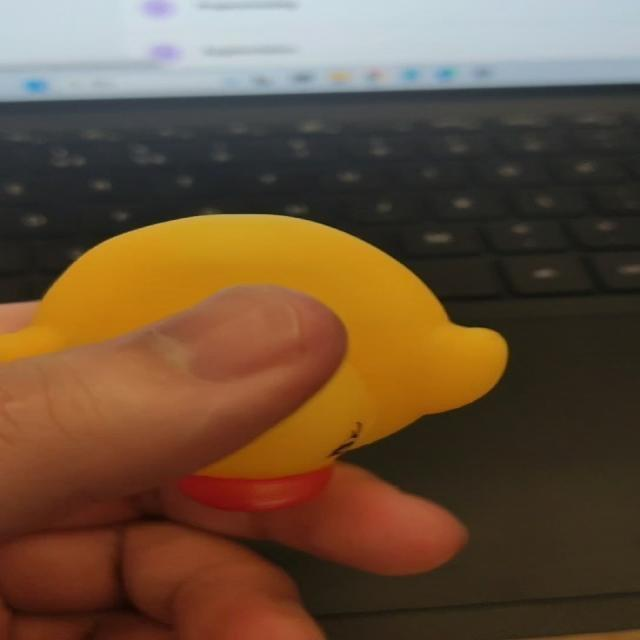rubber-duck: (0, 214, 506, 509)
